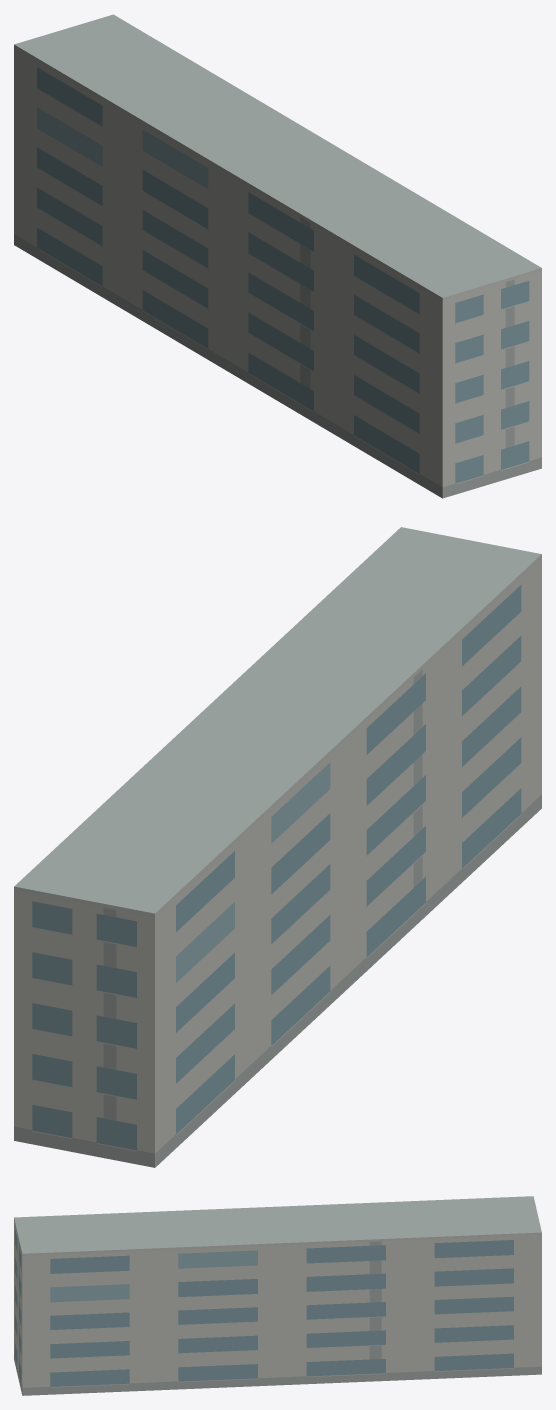
Rendered from residential-cb6d9cb2-c4ae-43cb-932d-af665b4c0b33.glb.
3 views of the same model, one above another, from view 1: azimuth 30°, elevation 25°; view 2: azimuth 150°, elevation 25°; view 3: azimuth 270°, elevation 25° (orthographic). The views are drawn at different scales.
Parts seen in each view (by area): view 1: residential-cb6d9cb2-c4ae-43cb-932d-af665b4c0b33.tmp; view 2: residential-cb6d9cb2-c4ae-43cb-932d-af665b4c0b33.tmp; view 3: residential-cb6d9cb2-c4ae-43cb-932d-af665b4c0b33.tmp.
Part boxes in pixels (bbox=[...]): residential-cb6d9cb2-c4ae-43cb-932d-af665b4c0b33.tmp: bbox=[14, 14, 541, 498]; residential-cb6d9cb2-c4ae-43cb-932d-af665b4c0b33.tmp: bbox=[14, 527, 541, 1167]; residential-cb6d9cb2-c4ae-43cb-932d-af665b4c0b33.tmp: bbox=[14, 1196, 541, 1395].
Size of the model in its own units: 13.29 by 15.25 by 51.37.
